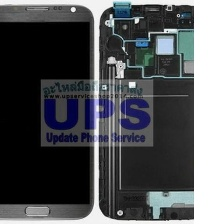phone: (96, 2, 224, 224), (0, 0, 95, 224)
